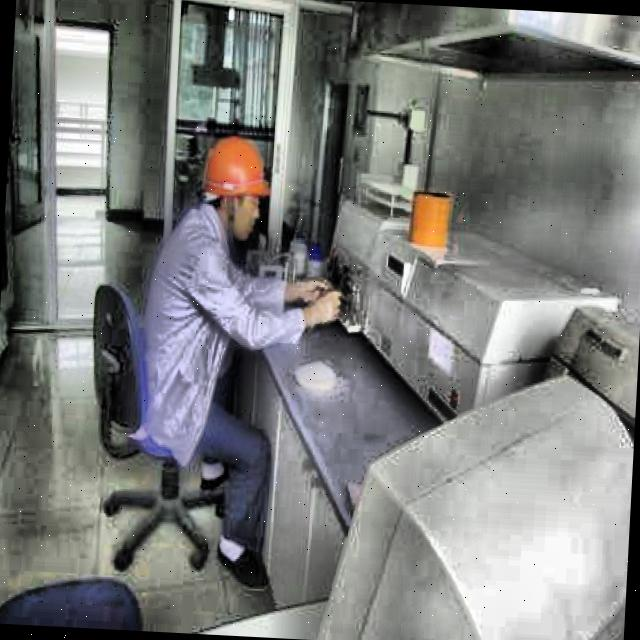helmet: (196, 124, 283, 254)
